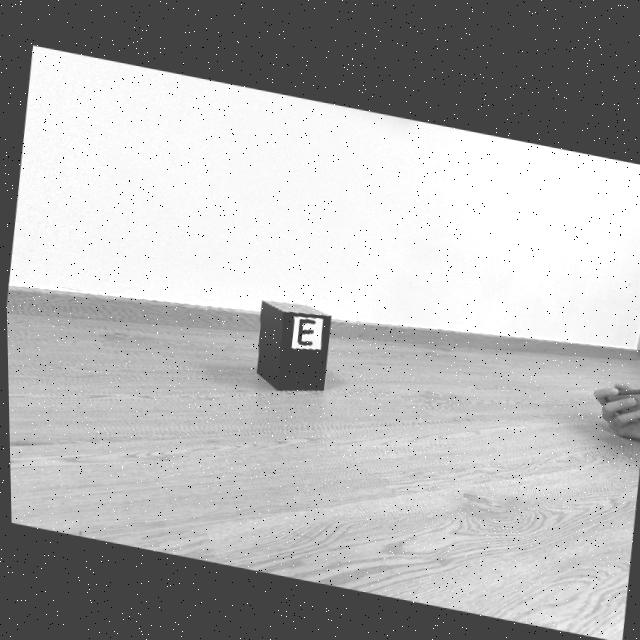E: (295, 314, 315, 342)
